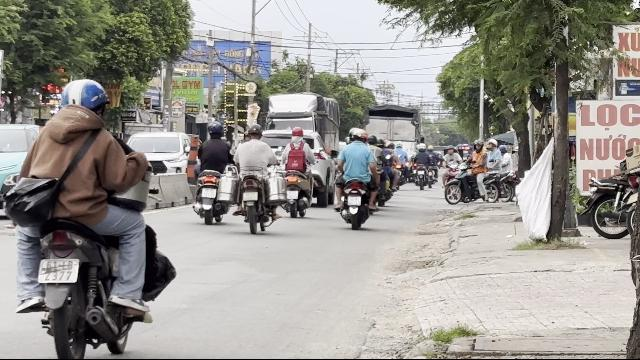helmet: (57, 78, 111, 116), (244, 122, 262, 139), (207, 122, 223, 138)
licenseplate: (38, 258, 78, 282), (202, 188, 216, 198), (242, 192, 258, 200)
motorcyclist: (4, 75, 176, 356), (232, 122, 278, 234), (192, 122, 232, 224)
